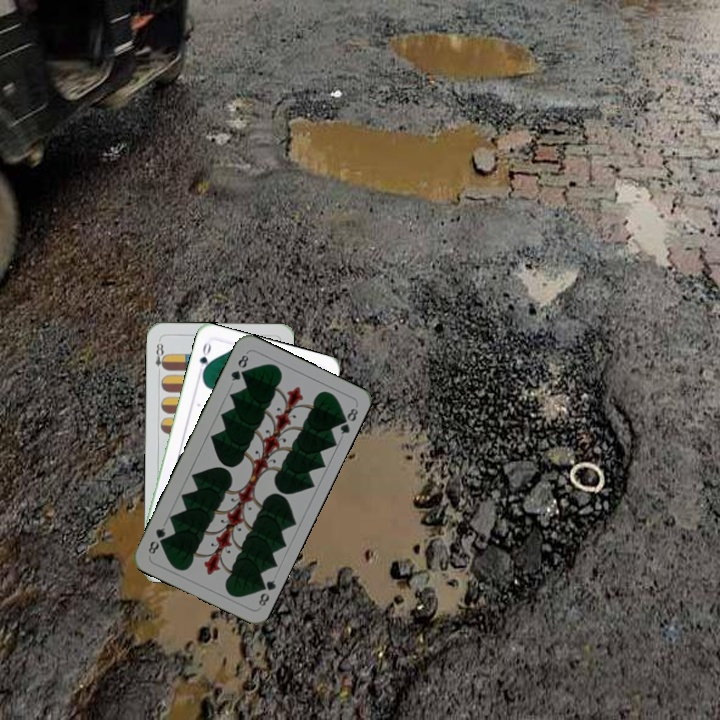E8: (151, 337, 168, 377)
G8: (253, 576, 279, 610), (227, 351, 251, 384)
GO: (194, 338, 214, 378)
